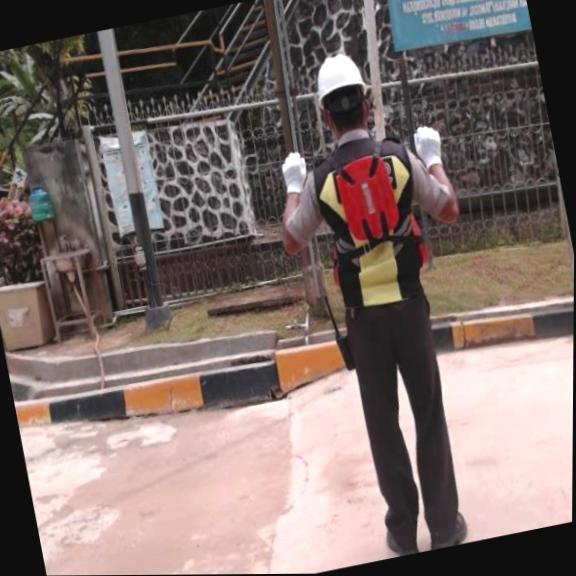safety_vest: (328, 146, 402, 247)
